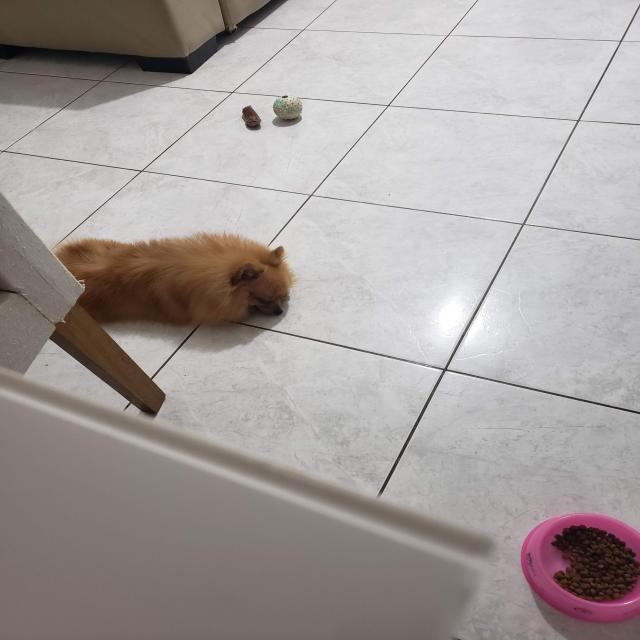laying down: (36, 229, 306, 328)
